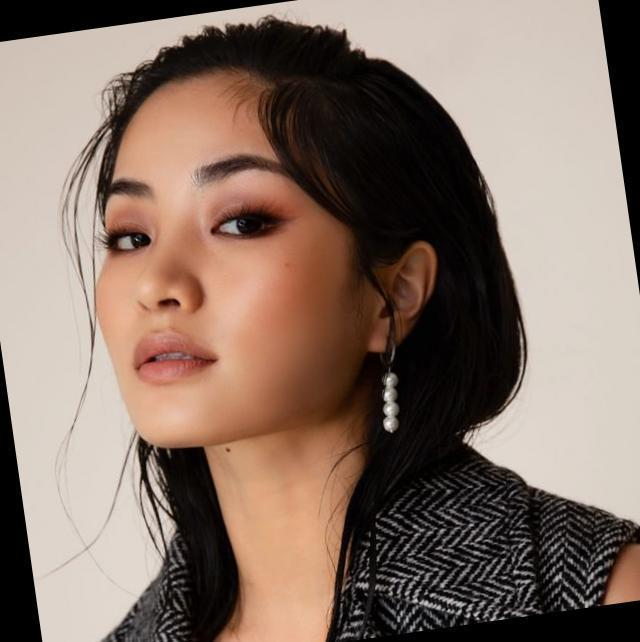Sober: (95, 92, 359, 455)
